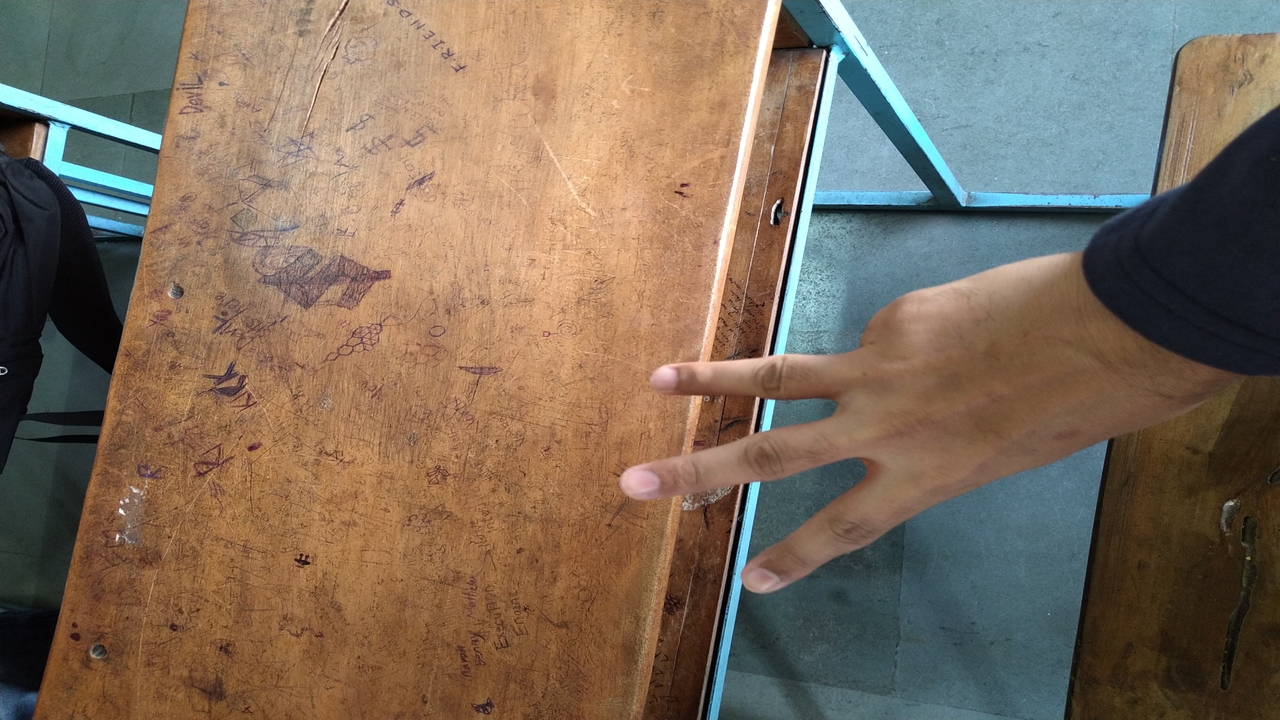fingertip: (613, 456, 666, 511), (735, 555, 780, 606), (644, 357, 686, 400)
